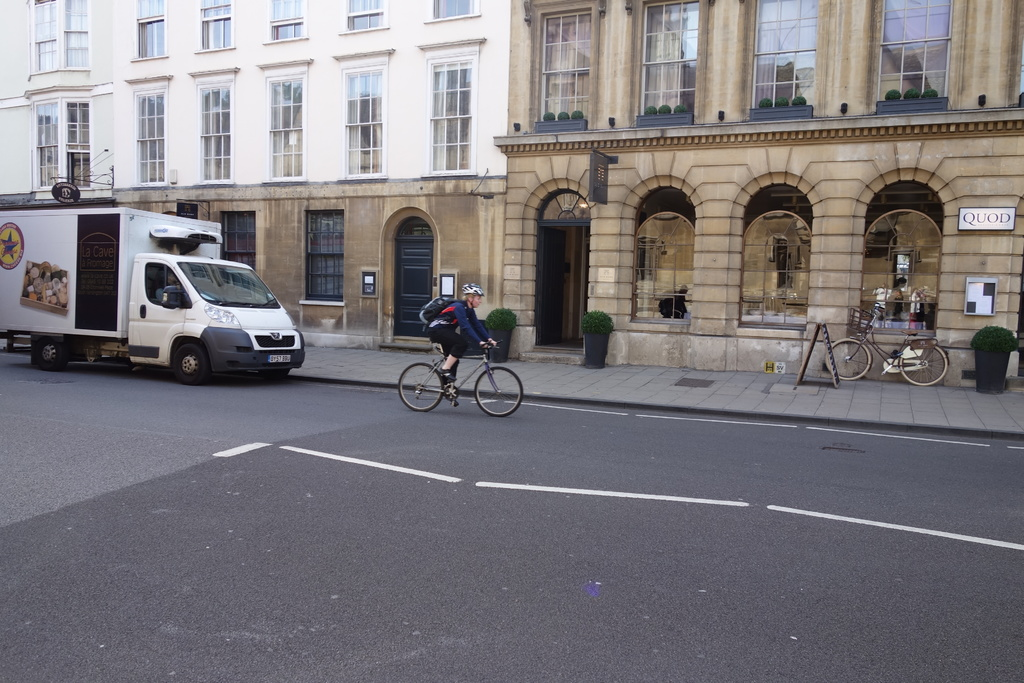Bike_away: (395, 340, 527, 420)
